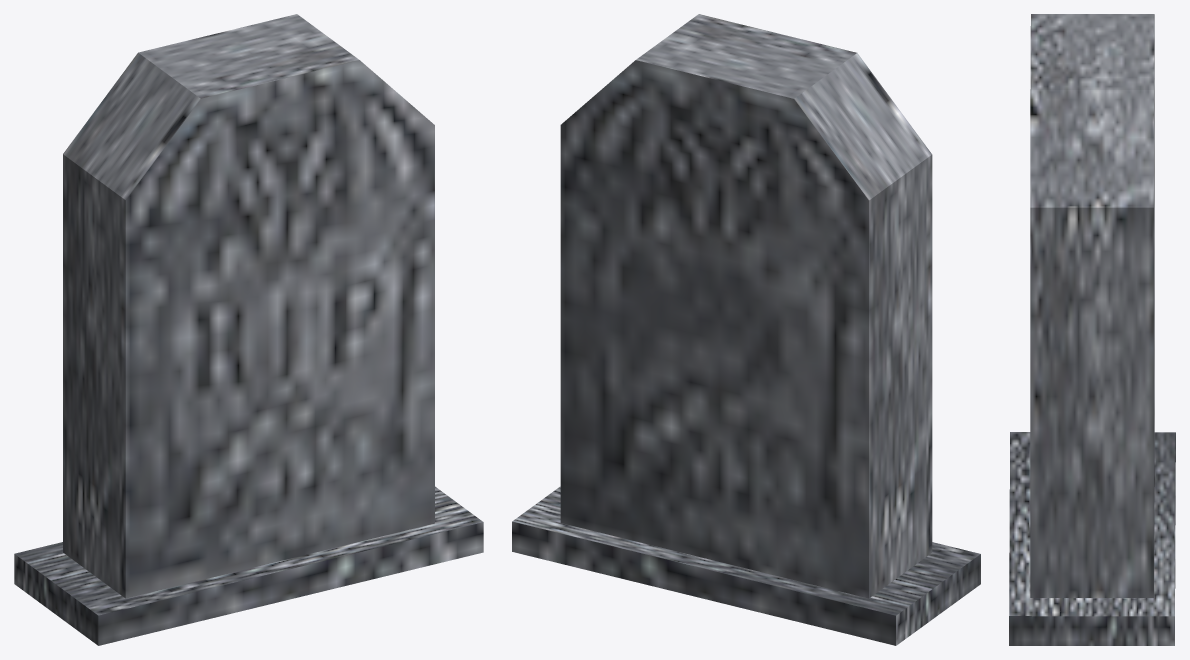
The model's file is ps1lowpoly_gravestone.glb.
3 renders of one model, left to right at view 1: azimuth 30°, elevation 25°; view 2: azimuth 150°, elevation 25°; view 3: azimuth 270°, elevation 25°, orthographic.
Visible parts, largest first — view 1: Object_2; view 2: Object_2; view 3: Object_2.
Boxes of the visible parts, <box> form: Object_2: <box>14,14,483,645</box>; Object_2: <box>512,14,980,645</box>; Object_2: <box>1009,14,1175,645</box>.
Bounding box in the file's own units: 1.86 × 2.36 × 0.711.
1 material, 1 textured.
